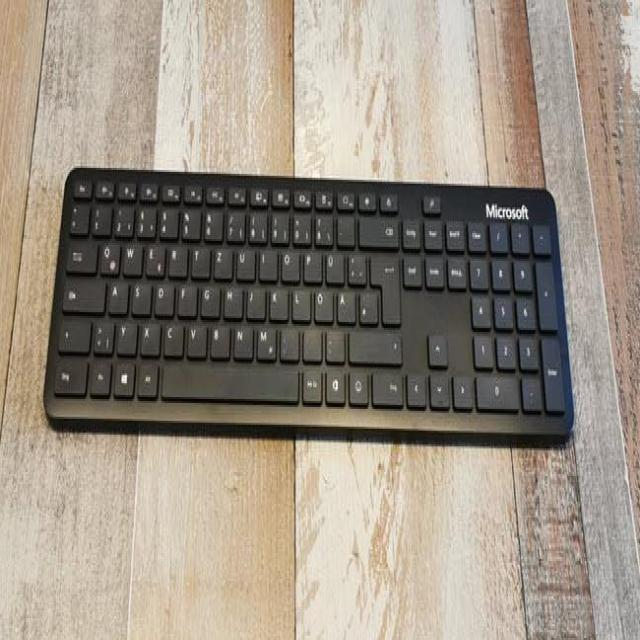0: (290, 209, 310, 241)
1: (89, 200, 109, 234)
2: (112, 200, 132, 234)
3: (134, 200, 154, 234)
4: (157, 202, 177, 236)
5: (181, 205, 201, 237)
6: (201, 205, 221, 237)
7: (224, 205, 242, 239)
8: (246, 205, 264, 239)
9: (268, 207, 286, 241)
a: (105, 275, 125, 311)
accent: (335, 211, 353, 243)
ae: (335, 286, 353, 320)
alt-left: (135, 356, 157, 394)
altgr-right: (300, 363, 320, 399)
b: (208, 320, 228, 356)
c: (161, 318, 181, 352)
caret: (67, 202, 87, 232)
comma: (278, 324, 296, 358)
d: (152, 279, 172, 313)
del: (357, 211, 397, 243)
e: (143, 239, 163, 273)
enter: (368, 249, 398, 322)
f: (175, 279, 195, 315)
g: (198, 281, 218, 315)
h: (221, 281, 241, 315)
hash: (357, 286, 375, 320)
i: (257, 245, 275, 277)
j: (243, 283, 263, 317)
k: (267, 283, 285, 317)
keyboard: (37, 167, 573, 431)
l: (290, 284, 308, 318)
less: (90, 314, 112, 350)
m: (254, 320, 274, 356)
minus: (323, 324, 343, 358)
n: (233, 322, 253, 358)
o: (278, 245, 298, 279)
oe: (311, 284, 331, 318)
p: (300, 245, 320, 279)
plus: (345, 249, 365, 281)
point: (300, 324, 320, 358)
q: (97, 237, 117, 271)
r: (166, 241, 186, 275)
s: (130, 277, 148, 313)
shift-left: (55, 312, 89, 348)
shift-lock: (59, 273, 103, 309)
shift-right: (348, 328, 401, 362)
space: (159, 360, 299, 398)
ss: (313, 211, 331, 241)
strg-left: (51, 352, 85, 392)
strg-right: (369, 365, 403, 403)
t: (188, 241, 208, 275)
tab: (63, 235, 95, 269)
u: (233, 243, 253, 277)
ue: (324, 247, 342, 281)
v: (185, 320, 205, 354)
w: (120, 237, 140, 273)
x: (138, 318, 158, 352)
y: (115, 316, 135, 352)
z: (211, 243, 231, 275)
